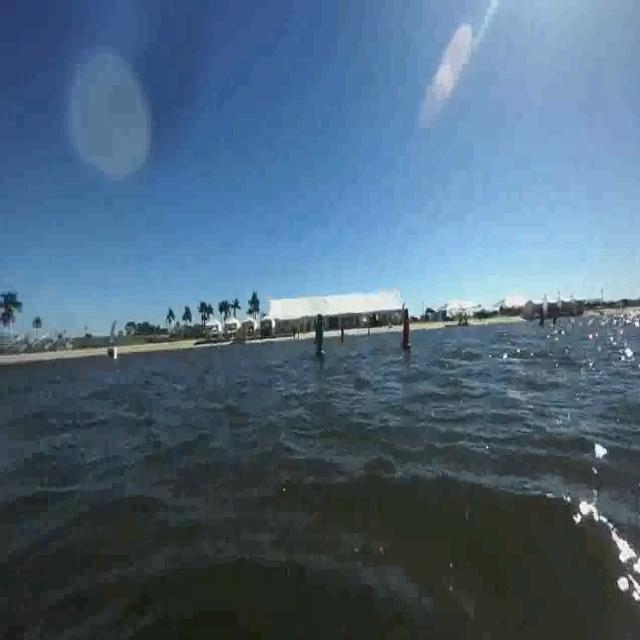green-column-buoy: (316, 311, 324, 358)
red-column-buoy: (402, 312, 410, 348)
